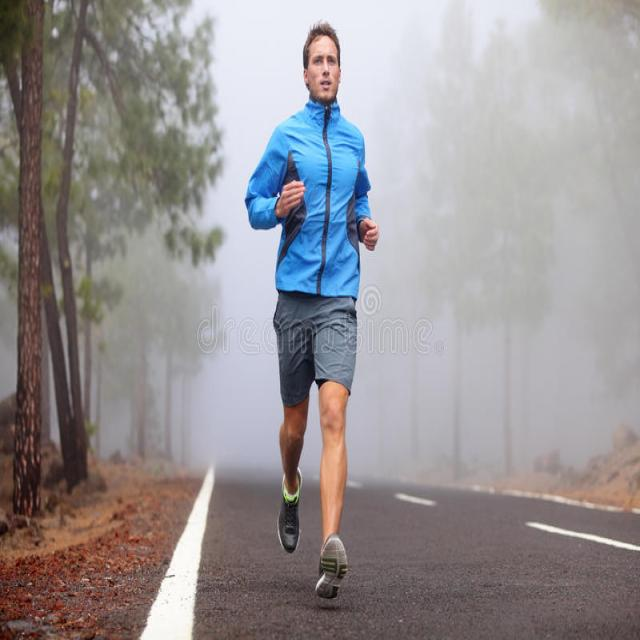running: (244, 17, 378, 602)
